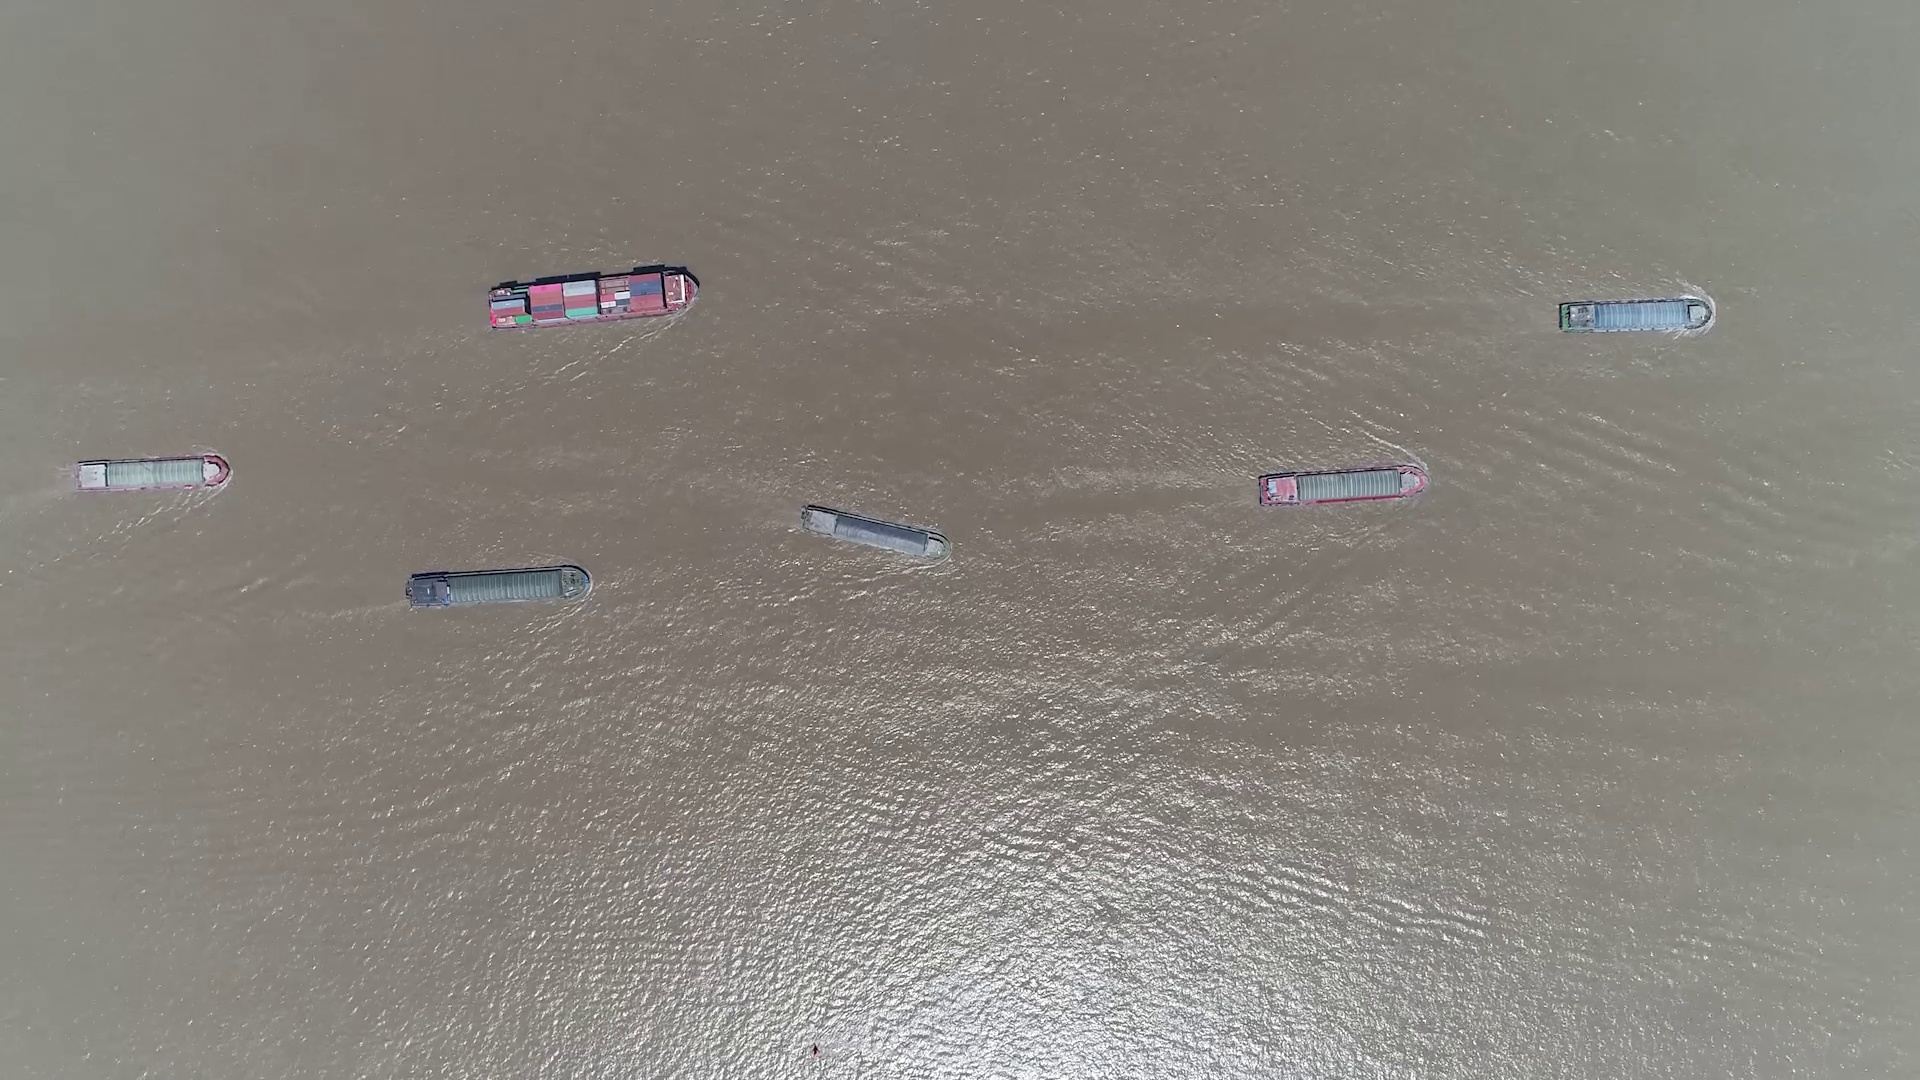ship: (487, 269, 698, 330), (798, 505, 948, 560), (406, 566, 589, 608), (1261, 464, 1429, 506), (75, 456, 229, 492), (1560, 301, 1710, 334)
